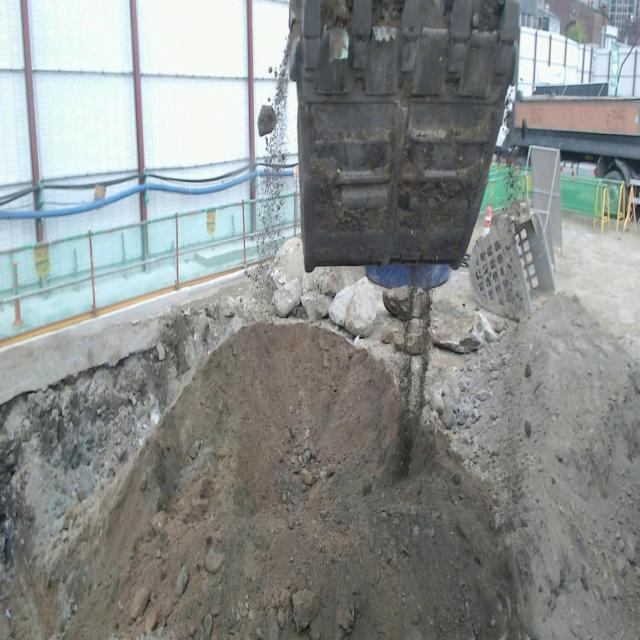stone: (271, 238, 363, 319), (382, 286, 431, 354), (328, 277, 376, 337), (431, 300, 485, 353)
white-sand: (14, 221, 640, 639)
